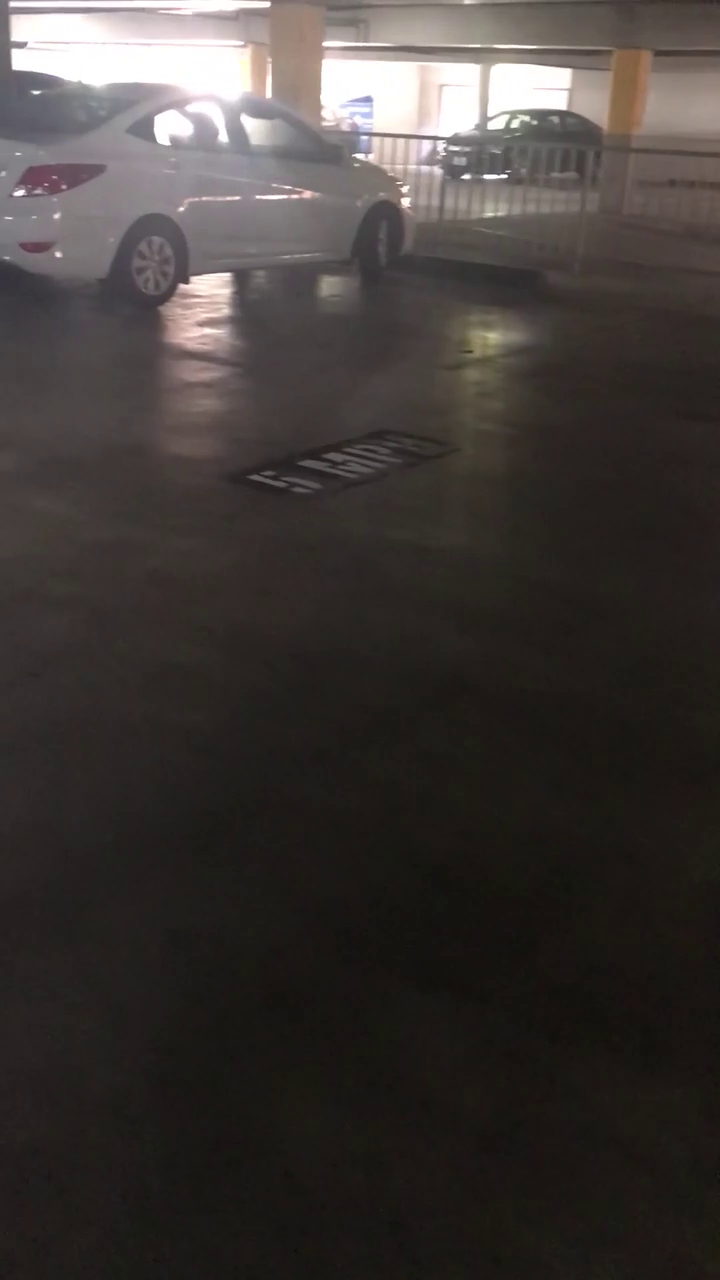car: (0, 58, 406, 320)
